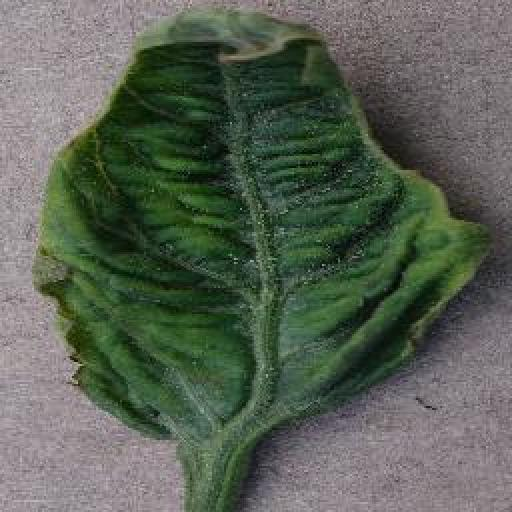Yellow Leaf Curl Virus: (34, 8, 498, 443)
